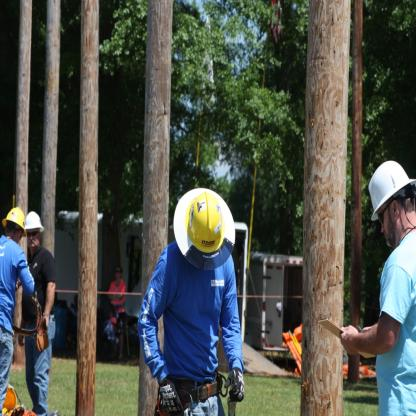Helmet: (175, 195, 230, 275), (371, 158, 415, 224), (0, 207, 26, 239), (23, 208, 45, 233)
